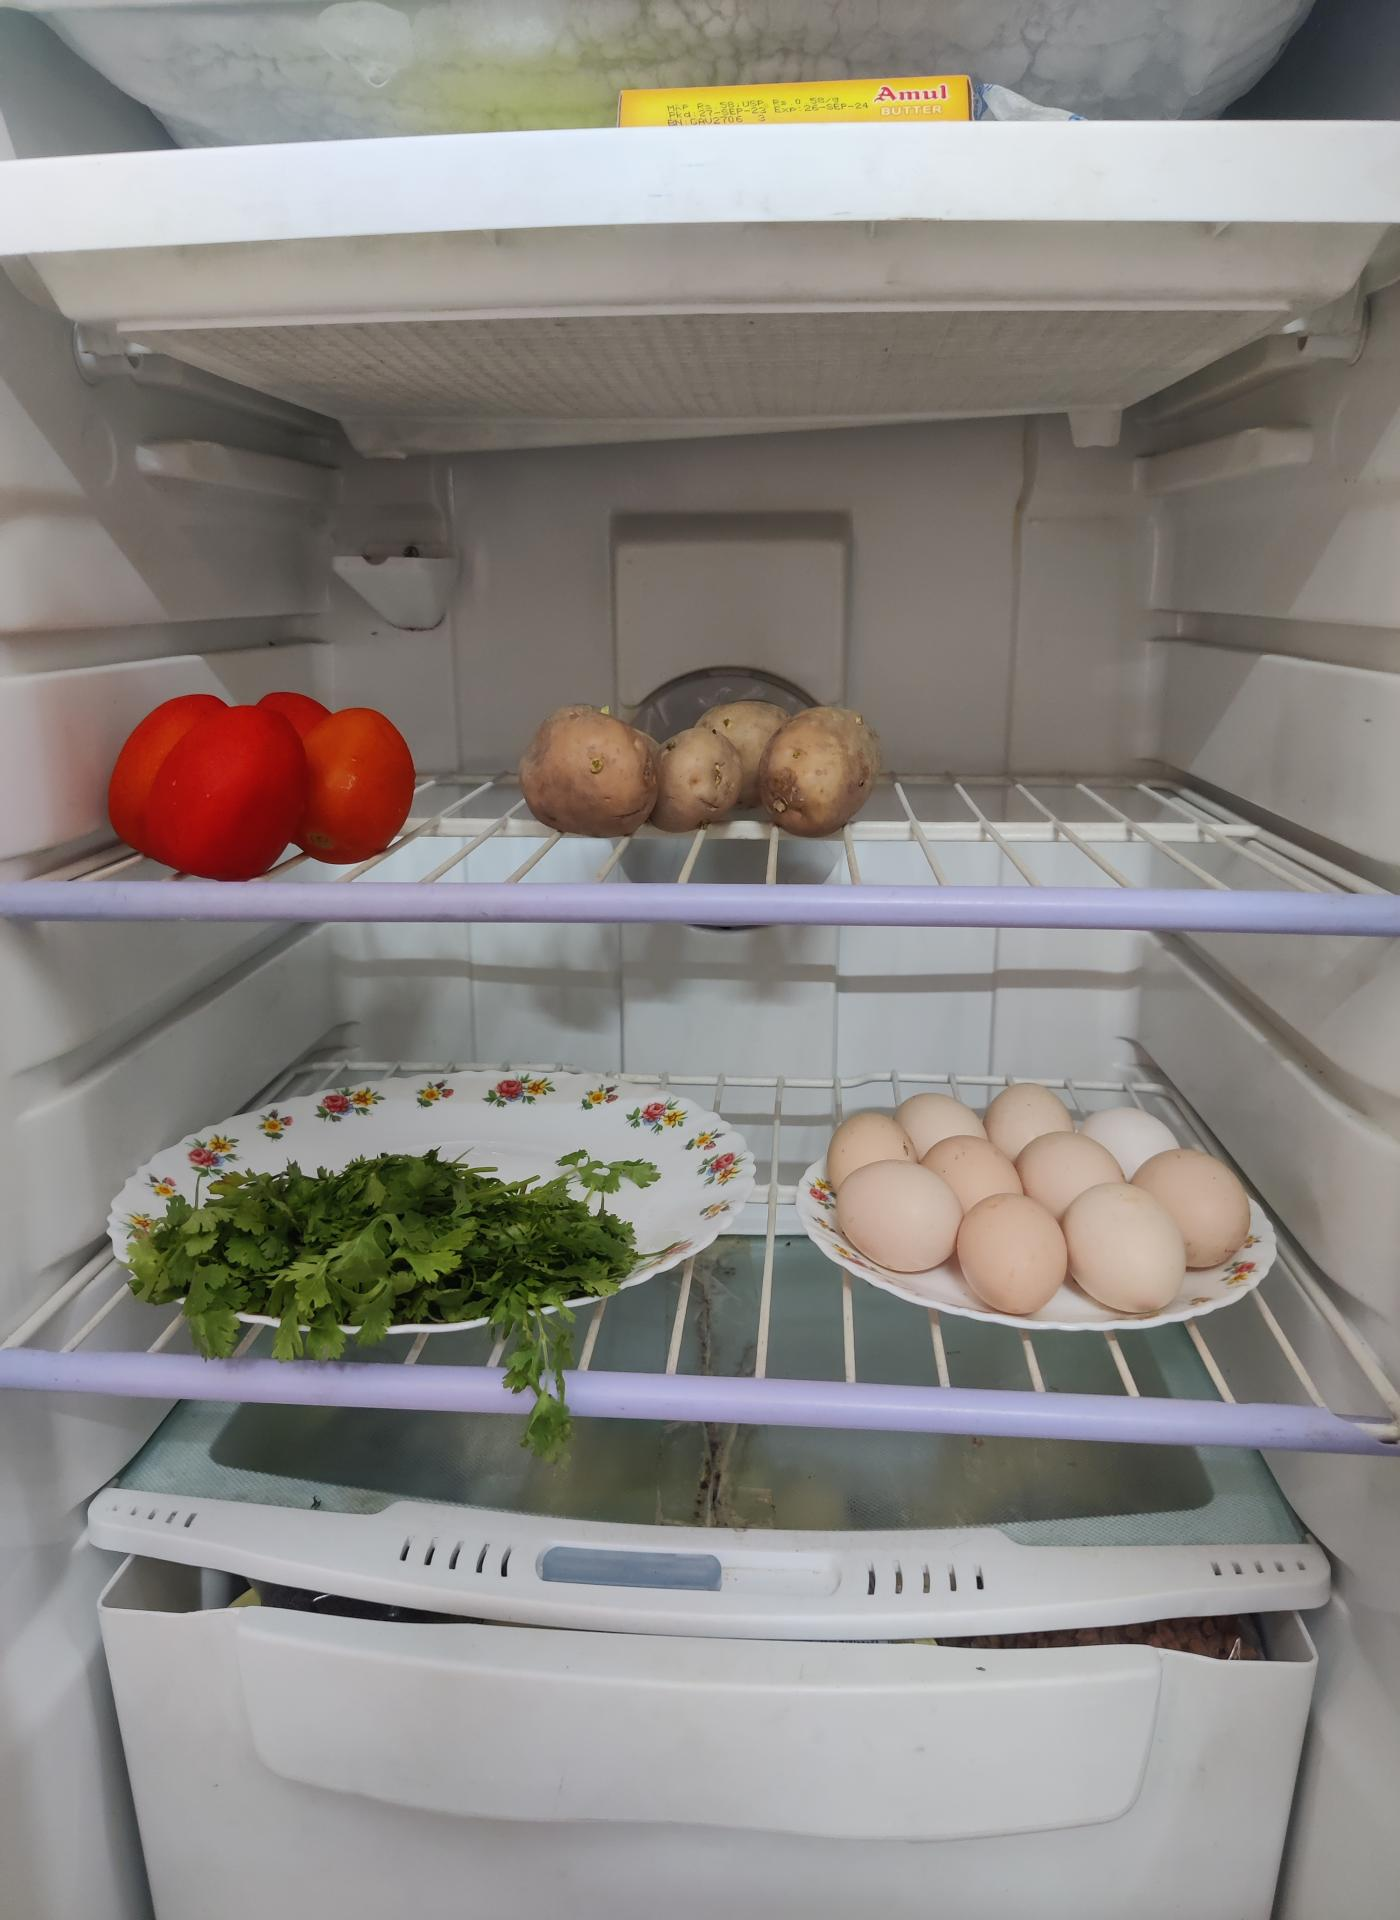coriander: (128, 1152, 643, 1360)
egg: (805, 1087, 1255, 1322)
potato: (526, 704, 887, 842)
tomato: (113, 693, 420, 881)
